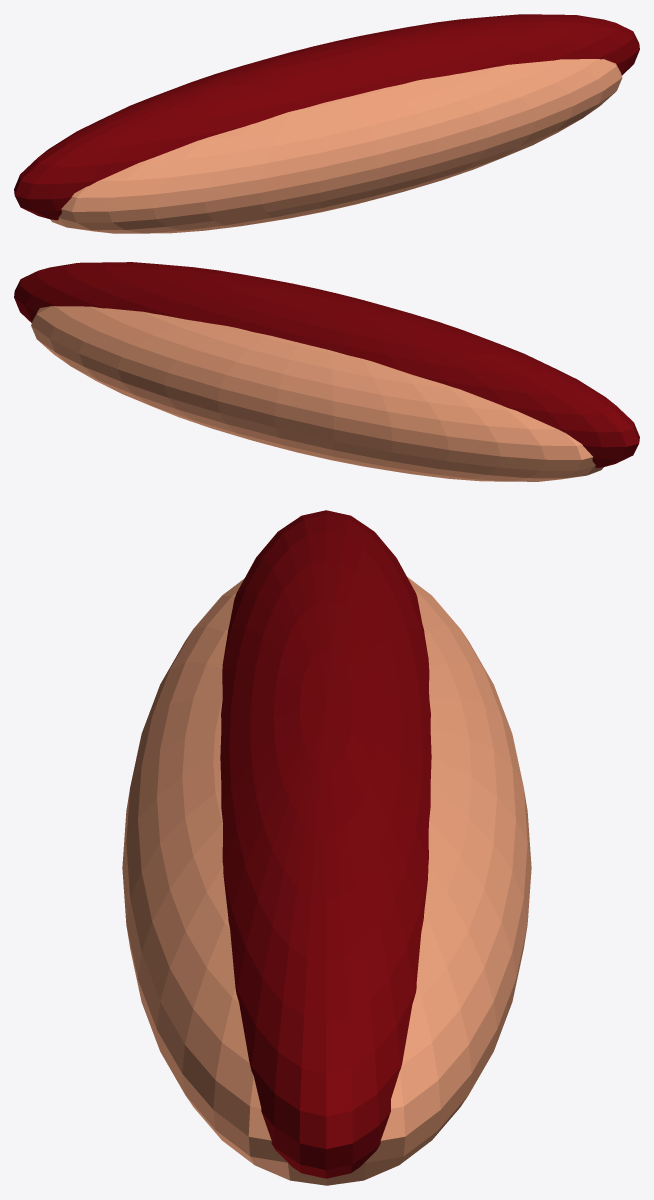
File: HotDog.fbx
3 views of the same model, one above another, from view 1: azimuth 30°, elevation 25°; view 2: azimuth 150°, elevation 25°; view 3: azimuth 270°, elevation 25° (orthographic). The views are drawn at different scales.
Visible parts, largest first — view 1: Sphere, Sphere.001; view 2: Sphere, Sphere.001; view 3: Sphere.001, Sphere.
Boxes of the visible parts, x1,y1,x2,y2 form: Sphere: (50, 59, 622, 233); Sphere.001: (14, 14, 639, 220); Sphere: (31, 306, 603, 481); Sphere.001: (14, 262, 639, 468); Sphere.001: (220, 510, 431, 1178); Sphere: (122, 577, 531, 1185).
Bounding box in the file's own units: 832 × 184 × 236.
